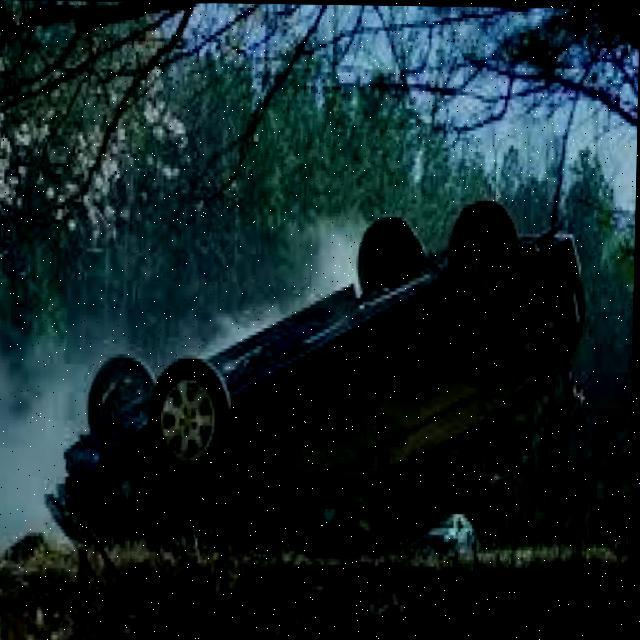multiple_accident: (17, 125, 585, 602)
